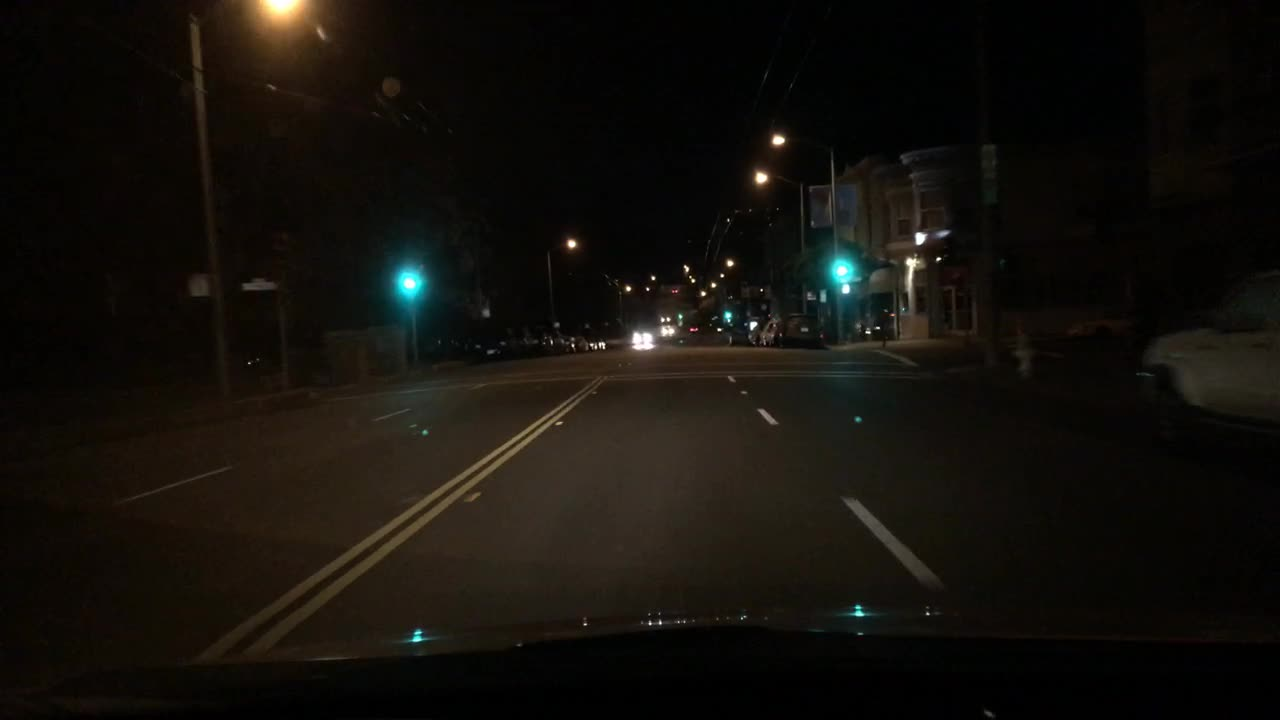car: (1131, 276, 1280, 423), (774, 312, 828, 350), (469, 336, 510, 363), (742, 310, 770, 345), (514, 336, 539, 365), (724, 316, 747, 347), (587, 325, 609, 350), (541, 334, 566, 354), (628, 329, 655, 347), (571, 332, 585, 352), (660, 325, 676, 340), (655, 311, 672, 322), (669, 285, 681, 295)
traffic light: (394, 265, 424, 299), (825, 256, 857, 285), (721, 307, 735, 327)
traffic sign: (242, 278, 278, 292)
